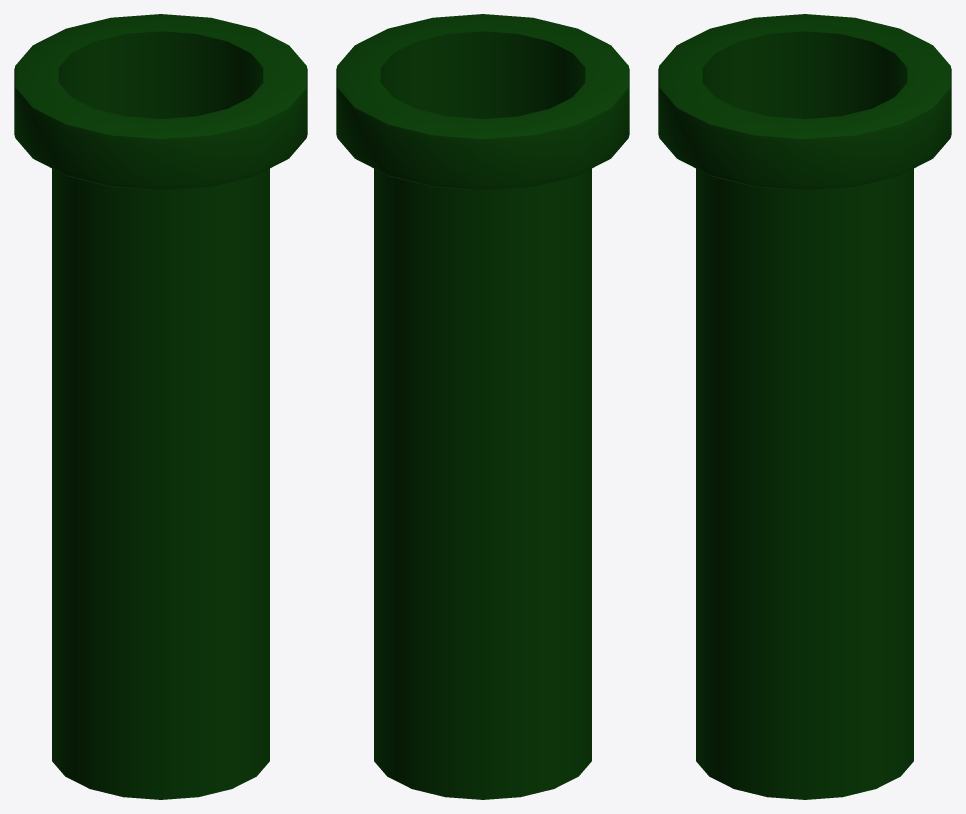
Rendered from CanoFino.FBX.
The picture shows the model from 3 angles, left to right: view 1: azimuth 30°, elevation 25°; view 2: azimuth 150°, elevation 25°; view 3: azimuth 270°, elevation 25°; orthographic projection.
Visible parts, largest first — view 1: Cylinder003; view 2: Cylinder003; view 3: Cylinder003.
Part boxes in pixels (x1,y1,x2,y2): Cylinder003: [14, 14, 307, 799]; Cylinder003: [336, 14, 629, 799]; Cylinder003: [658, 14, 951, 799].
Size of the model in its own units: 24.46 by 61.41 by 24.09.
